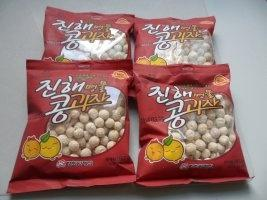snack: (6, 58, 136, 194), (136, 62, 256, 187)
